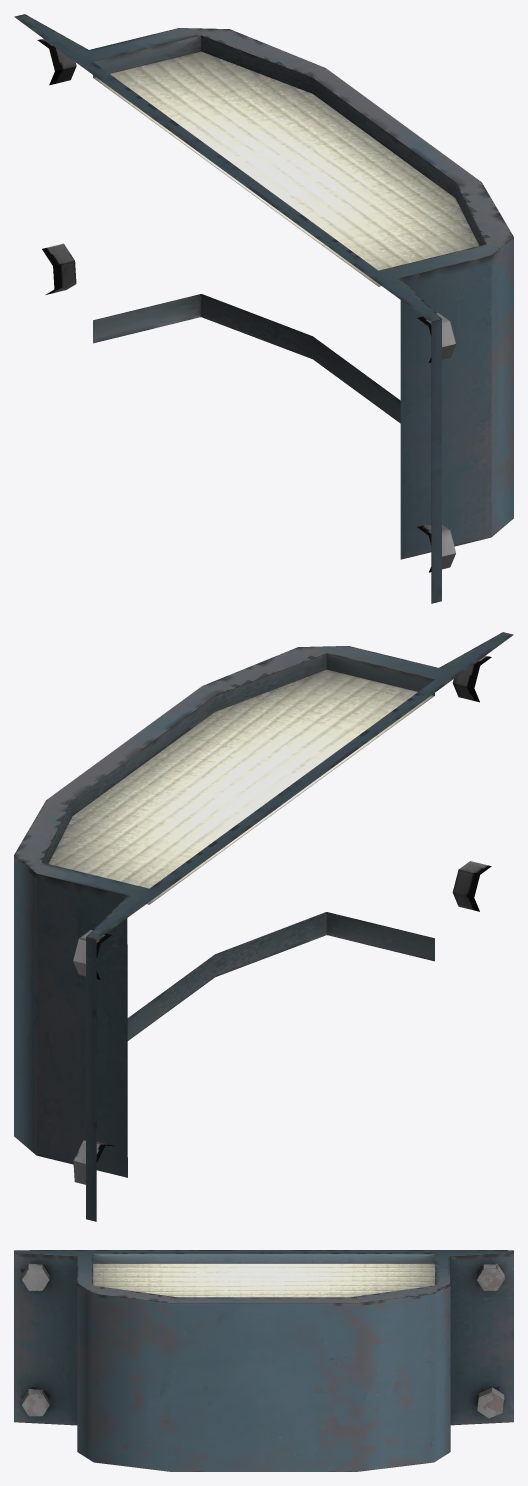
3 views of the same model, one above another, from view 1: azimuth 30°, elevation 25°; view 2: azimuth 150°, elevation 25°; view 3: azimuth 270°, elevation 25° (orthographic). The views are drawn at different scales.
Visible parts, largest first — view 1: body0_model0_lod0_mesh0; view 2: body0_model0_lod0_mesh0; view 3: body0_model0_lod0_mesh0.
Boxes of the visible parts, left/top/right/bottom form: body0_model0_lod0_mesh0: left=14, top=14, right=513, bottom=603; body0_model0_lod0_mesh0: left=14, top=632, right=513, bottom=1221; body0_model0_lod0_mesh0: left=14, top=1250, right=513, bottom=1471.
Bounding box in the file's own units: 6.91 × 10.24 × 27.48.
1 material, 1 textured.
